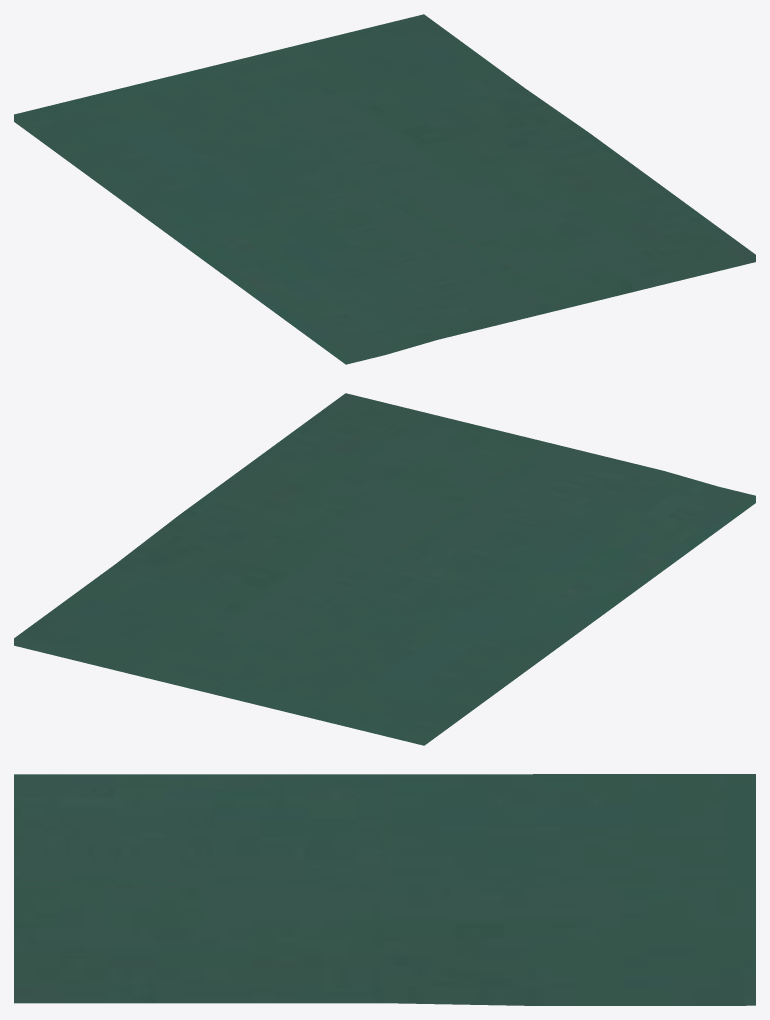
3 views of the same model, one above another, from view 1: azimuth 30°, elevation 25°; view 2: azimuth 150°, elevation 25°; view 3: azimuth 270°, elevation 25° (orthographic). The views are drawn at different scales.
Parts seen in each view (by area): view 1: 30436272704370637402_0; view 2: 30436272704370637402_0; view 3: 30436272704370637402_0.
Boxes of the visible parts, x1,y1,x2,y2 form: 30436272704370637402_0: (14,14,755,364); 30436272704370637402_0: (14,393,755,745); 30436272704370637402_0: (14,774,755,1005).
Size of the model in its own units: 27.32 by 0.6295 by 38.26.
1 material, 1 textured.
